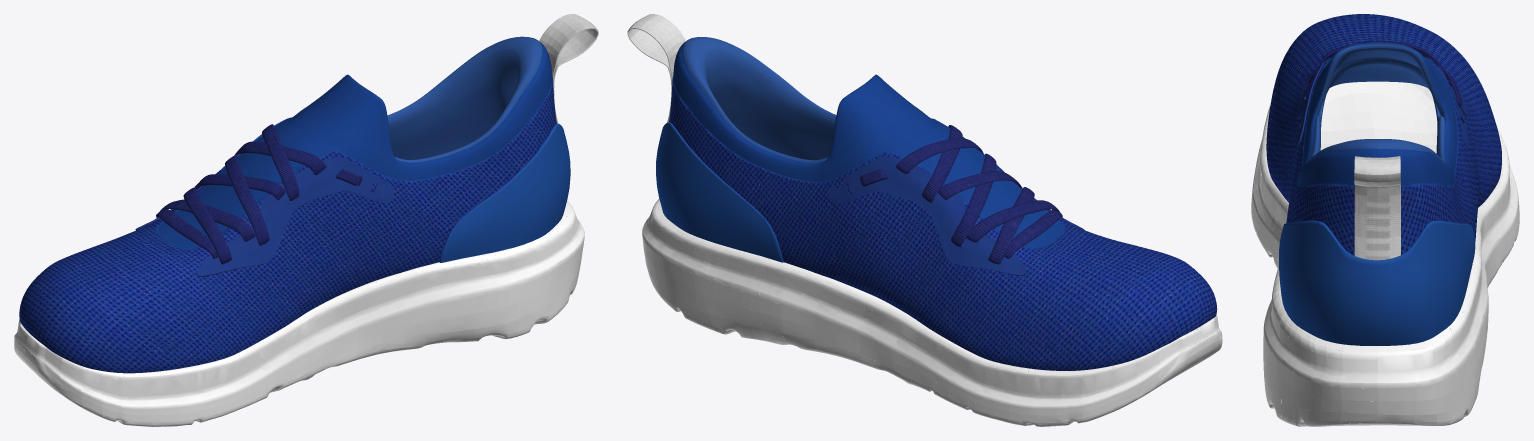
The model's file is shoeminimalglbfull.glb.
3 renders of one model, left to right at view 1: azimuth 30°, elevation 25°; view 2: azimuth 150°, elevation 25°; view 3: azimuth 270°, elevation 25°, orthographic. The views are drawn at different scales.
Parts seen in each view (by area): view 1: pasted__polySurface1, Botto, pasted__polySurface2, pasted__polySurface14, pasted__polySurface5, pasted__polySurface9; view 2: pasted__polySurface1, Botto, pasted__polySurface2, pasted__polySurface14, pasted__polySurface8, pasted__polySurface9; view 3: pasted__polySurface1, Botto, pasted__polySurface2, Insole, pasted__polySurface9, pasted__polySurface14, pasted__polySurface5, pasted__polySurface8.
Part boxes in pixels (left/top/right/bottom): pasted__polySurface1: left=19, top=36, right=556, bottom=373; Botto: left=14, top=200, right=584, bottom=426; pasted__polySurface2: left=439, top=123, right=570, bottom=262; pasted__polySurface14: left=156, top=124, right=326, bottom=263; pasted__polySurface5: left=196, top=156, right=393, bottom=277; pasted__polySurface9: left=539, top=14, right=598, bottom=123; pasted__polySurface1: left=669, top=37, right=1217, bottom=371; Botto: left=642, top=199, right=1222, bottom=426; pasted__polySurface2: left=656, top=122, right=783, bottom=262; pasted__polySurface14: left=896, top=125, right=1062, bottom=264; pasted__polySurface8: left=829, top=156, right=1026, bottom=275; pasted__polySurface9: left=627, top=14, right=685, bottom=122; pasted__polySurface1: left=1266, top=14, right=1501, bottom=255; Botto: left=1251, top=106, right=1519, bottom=426; pasted__polySurface2: left=1279, top=220, right=1475, bottom=350; Insole: left=1320, top=81, right=1437, bottom=153; pasted__polySurface9: left=1354, top=156, right=1400, bottom=260; pasted__polySurface14: left=1305, top=41, right=1458, bottom=97; pasted__polySurface5: left=1295, top=59, right=1327, bottom=150; pasted__polySurface8: left=1427, top=56, right=1468, bottom=148.
Bounding box in the file's own units: 0.3543 × 0.1539 × 0.1215.
6 materials, 4 textured.
